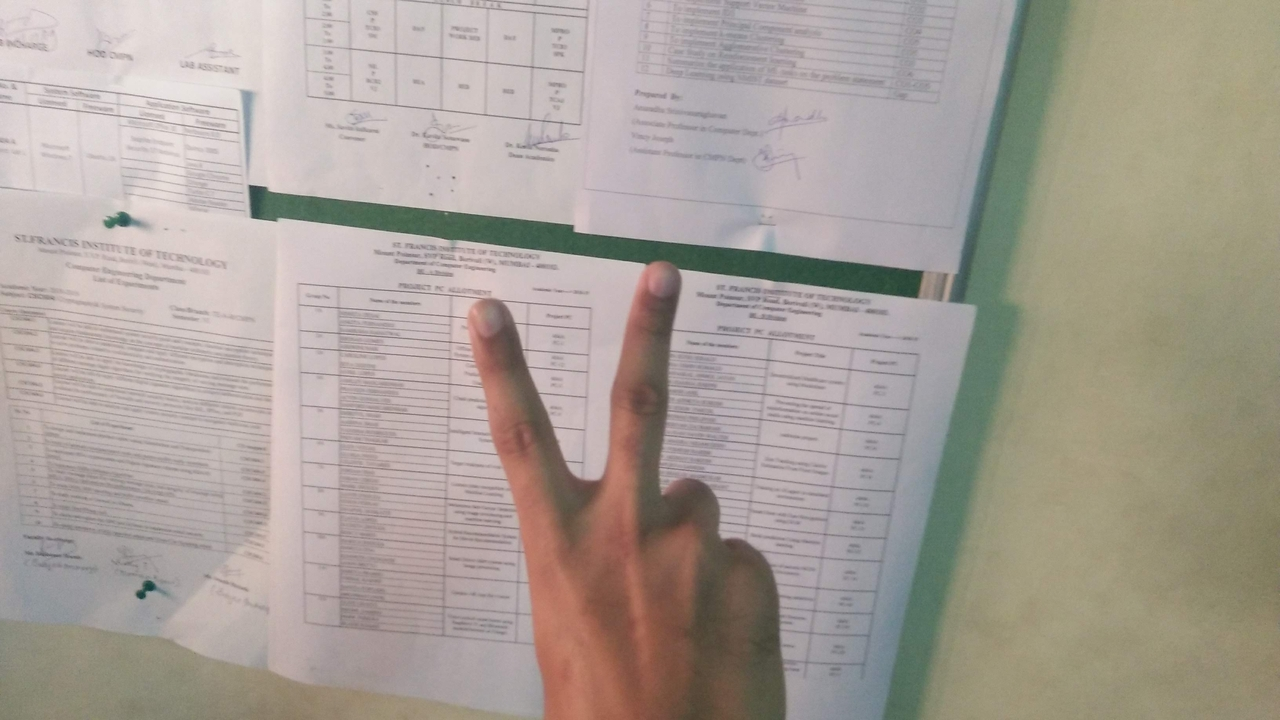fingertip: (628, 248, 686, 308), (458, 296, 516, 352)
